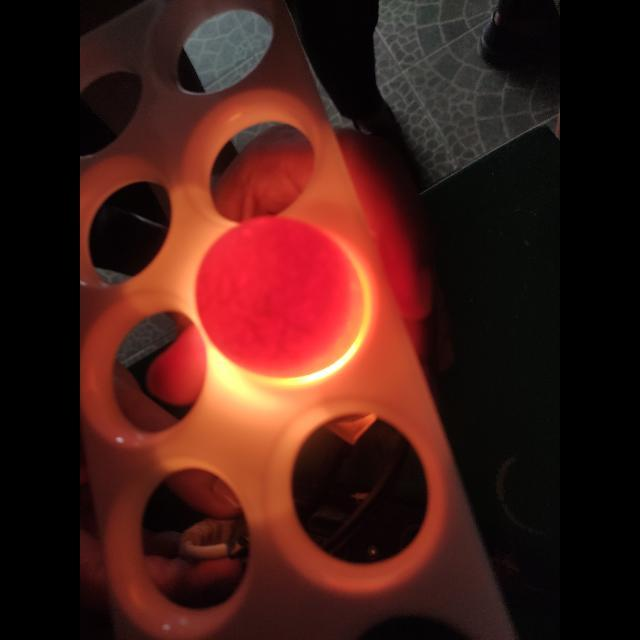A - Good: (205, 222, 362, 372)
